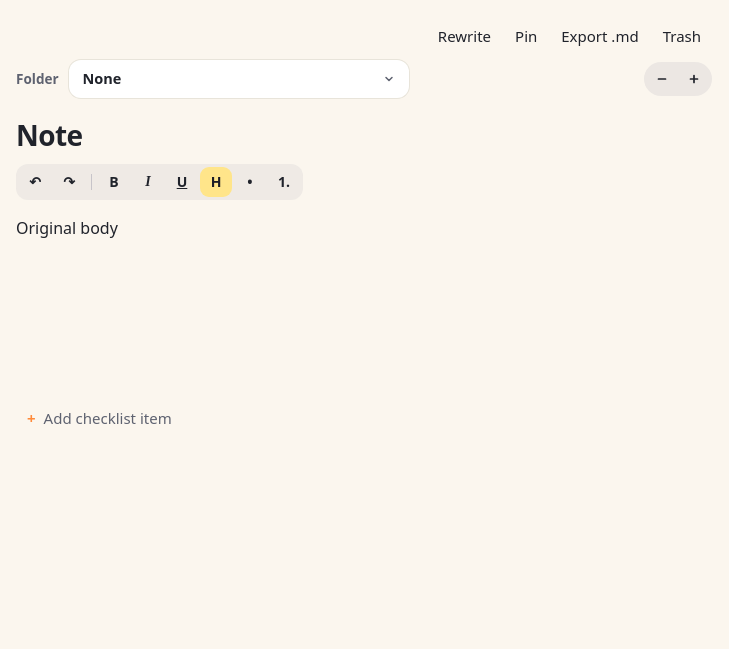
Test: Escape closes only the instruction box and restores Rewrite focus
Click the button "Rewrite".
click(464, 36)  # box [427,18,502,54]
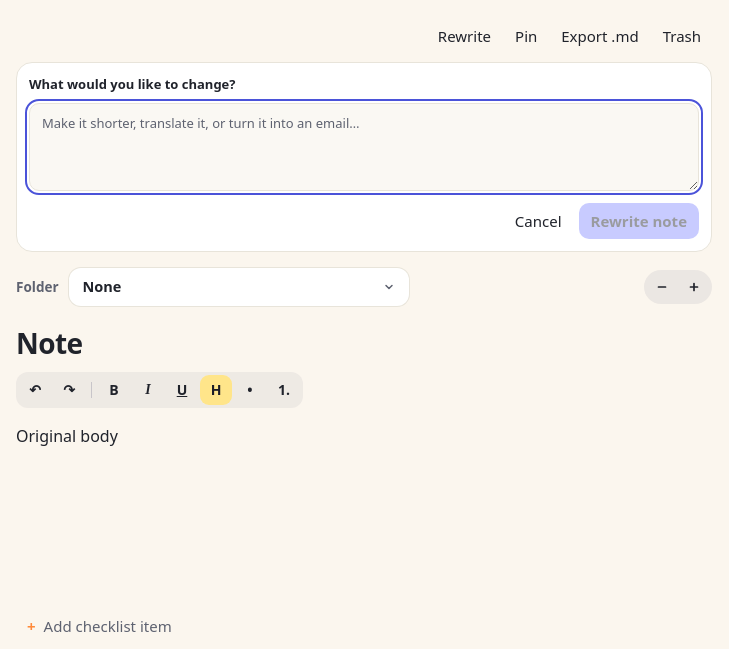
Now the text box named "Rewrite instruction" is shown
Press Escape in the text box named "Rewrite instruction", box [29,102,699,190]
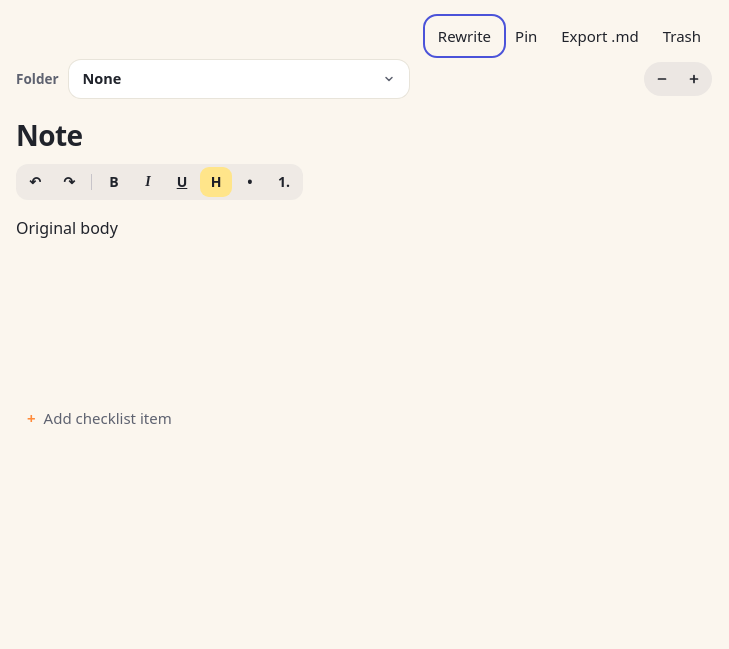
Expected: the button "Rewrite" is shown, [427,18,502,54]
Now the text box is gone
